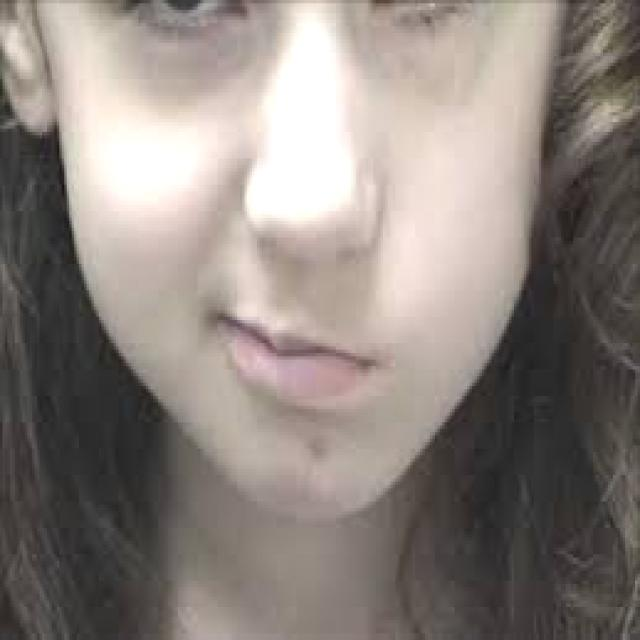stroke_face: (75, 19, 558, 582)
